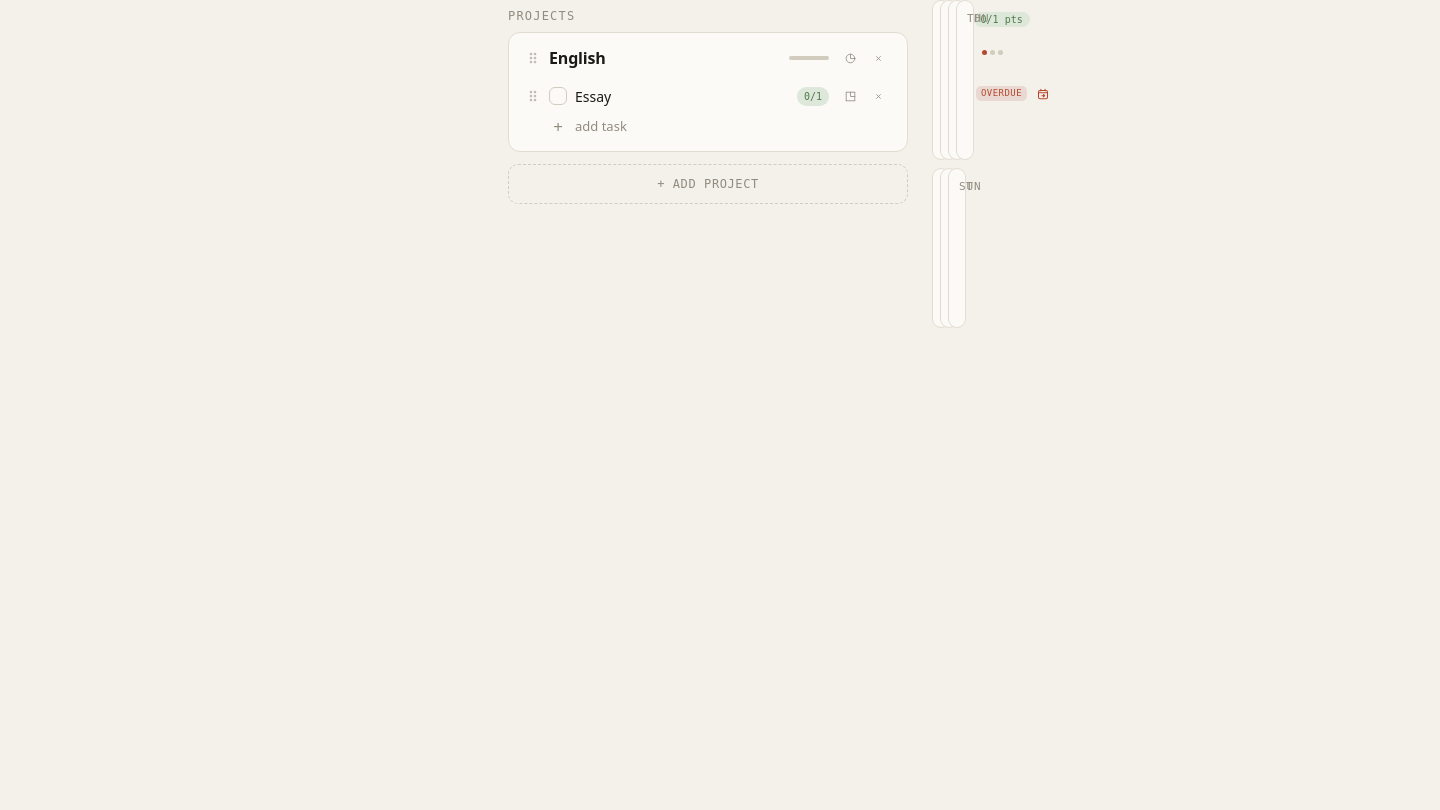
Test: WeekBoard › asks before deleting a task that has subtasks
What coordinates should you click on to do the following:
click the button named "Delete task"
I would click on:
 (878, 96)
Its box is [865,83,891,109].
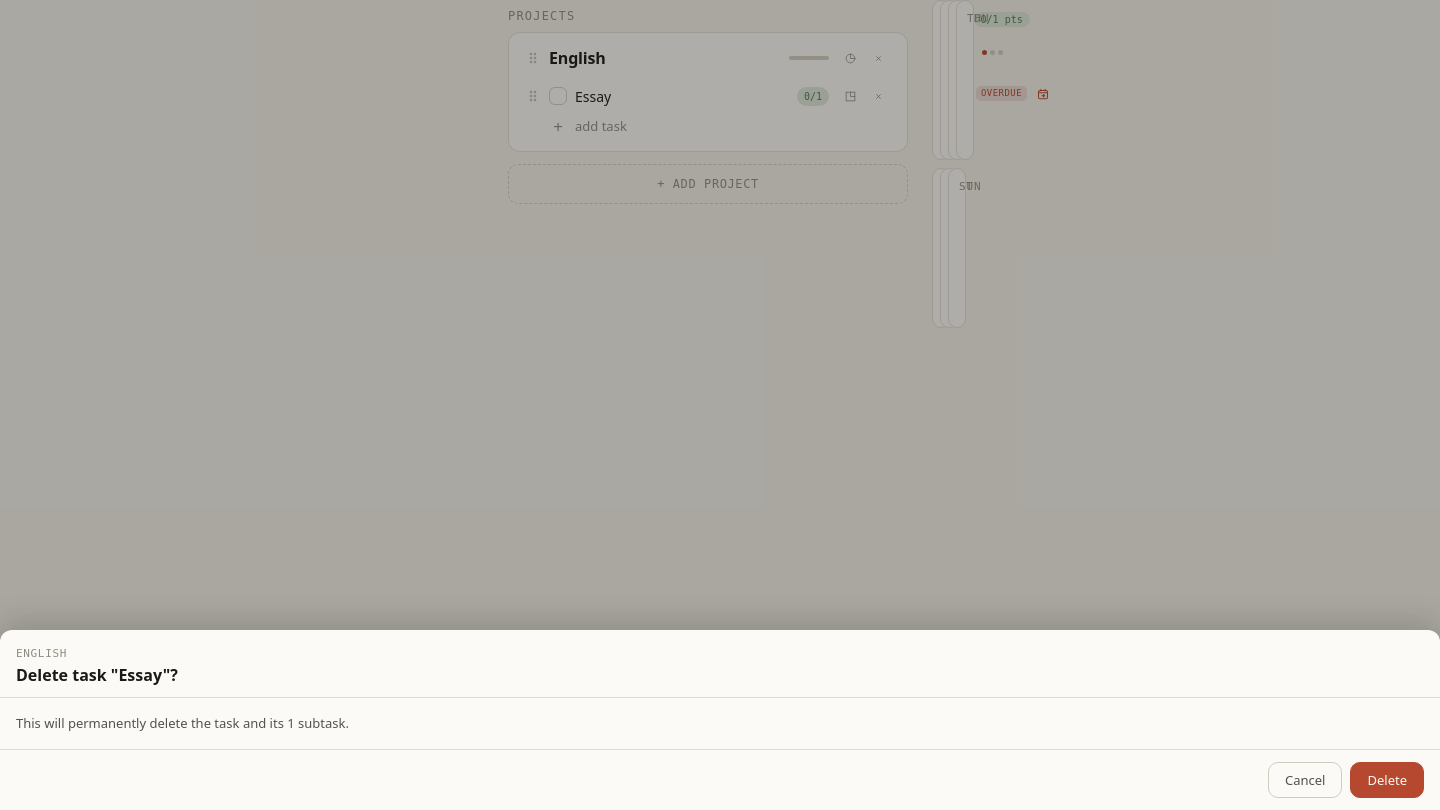
expect the dialog is shown: met, box [0,630,1439,809]
